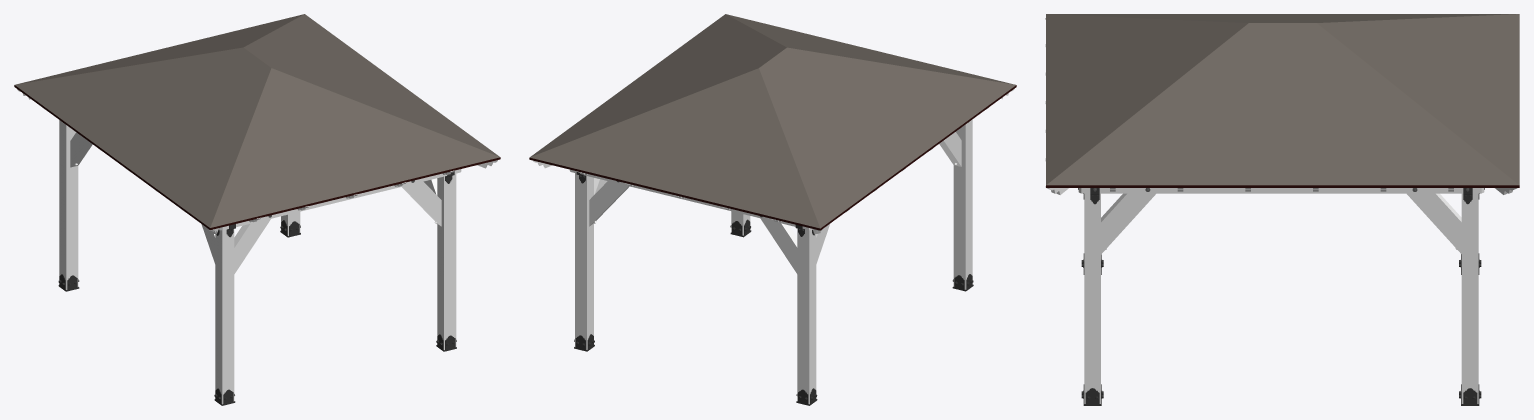
The model's file is saratoga-12x14-3step.obj.
The picture shows the model from 3 angles, left to right: view 1: azimuth 30°, elevation 25°; view 2: azimuth 150°, elevation 25°; view 3: azimuth 270°, elevation 25°; orthographic projection. The views are drawn at different scales.
Visible parts, largest first — view 1: Mesh228 shingles roof Group1 Model, Mesh179 Group72 Component_92_4 Group1 Model, Mesh81 Group44 Component_92_2 Group1 Model, Mesh130 Group58 Component_92_3 Group1 Model, Mesh229 roof Group1 Model, Mesh219 Component_91_7 Component_92_4 Group1 Model, Mesh121 Component_91_3 Component_92_2 Group1 Model, Mesh77 Component_135_1 Group1 Model, Mesh174 Component_91_6 Component_92_3 Group1 Model; view 2: Mesh228 shingles roof Group1 Model, Mesh130 Group58 Component_92_3 Group1 Model, Mesh1 Group3 Component_92_1 Group2 Group1 Model, Mesh179 Group72 Component_92_4 Group1 Model, Mesh229 roof Group1 Model, Mesh170 Component_91_5 Component_92_3 Group1 Model, Mesh41 Component_91_1 Component_92_1 Group2 Group1 Model, Mesh79 Component_135_2 Group1 Model, Mesh223 Component_91_8 Component_92_4 Group1 Model; view 3: Mesh228 shingles roof Group1 Model, Mesh1 Group3 Component_92_1 Group2 Group1 Model, Mesh81 Group44 Component_92_2 Group1 Model, Mesh80 Component_134_2 Group1 Model, Mesh45 Component_91_2 Component_92_1 Group2 Group1 Model, Mesh125 Component_91_4 Component_92_2 Group1 Model, Mesh229 roof Group1 Model.
Part boxes in pixels (x1,y1,x2,y2): Mesh228 shingles roof Group1 Model: (15,14,499,227); Mesh179 Group72 Component_92_4 Group1 Model: (215,229,234,404); Mesh81 Group44 Component_92_2 Group1 Model: (437,173,456,349); Mesh130 Group58 Component_92_3 Group1 Model: (59,120,78,289); Mesh229 roof Group1 Model: (14,85,500,230); Mesh219 Component_91_7 Component_92_4 Group1 Model: (234,219,270,273); Mesh121 Component_91_3 Component_92_2 Group1 Model: (402,181,441,226); Mesh77 Component_135_1 Group1 Model: (218,169,461,230); Mesh174 Component_91_6 Component_92_3 Group1 Model: (70,132,92,167); Mesh228 shingles roof Group1 Model: (530,14,1015,228); Mesh130 Group58 Component_92_3 Group1 Model: (797,228,816,404); Mesh1 Group3 Component_92_1 Group2 Group1 Model: (575,173,593,349); Mesh179 Group72 Component_92_4 Group1 Model: (953,119,972,289); Mesh229 roof Group1 Model: (529,85,1016,230); Mesh170 Component_91_5 Component_92_3 Group1 Model: (760,218,797,273); Mesh41 Component_91_1 Component_92_1 Group2 Group1 Model: (589,181,629,226); Mesh79 Component_135_2 Group1 Model: (569,169,812,229); Mesh223 Component_91_8 Component_92_4 Group1 Model: (939,132,961,166); Mesh228 shingles roof Group1 Model: (1046,14,1519,185); Mesh1 Group3 Component_92_1 Group2 Group1 Model: (1461,193,1478,403); Mesh81 Group44 Component_92_2 Group1 Model: (1084,193,1100,403); Mesh80 Component_134_2 Group1 Model: (1090,188,1472,193); Mesh45 Component_91_2 Component_92_1 Group2 Group1 Model: (1407,193,1461,253); Mesh125 Component_91_4 Component_92_2 Group1 Model: (1101,193,1155,254); Mesh229 roof Group1 Model: (1046,185,1519,187).
Bounding box in the file's own units: 144 × 123 × 168.
